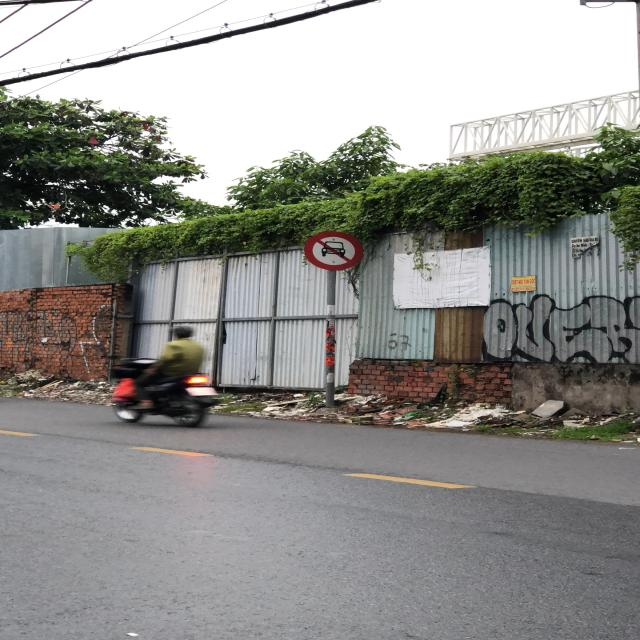Bien bao cam xe oto: (302, 230, 372, 272)
